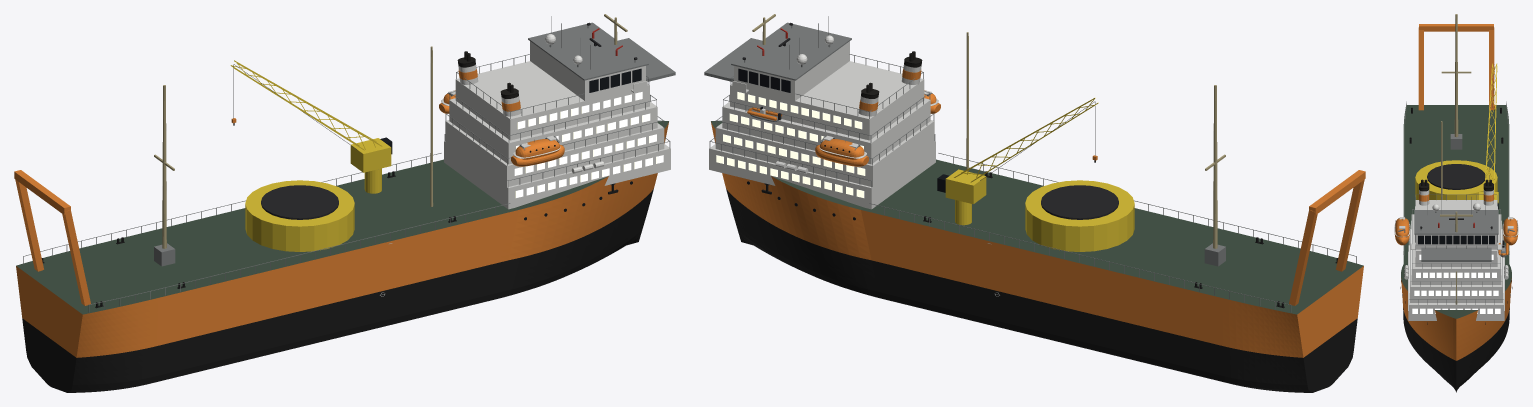
The model's file is offshore90.glb.
The picture shows the model from 3 angles, left to right: view 1: azimuth 30°, elevation 25°; view 2: azimuth 150°, elevation 25°; view 3: azimuth 270°, elevation 25°; orthographic projection. The views are drawn at different scales.
Parts seen in each view (by area): view 1: offshore90; view 2: offshore90; view 3: offshore90.
Boxes of the visible parts, bbox=[...] form: offshore90: bbox=[14, 14, 675, 392]; offshore90: bbox=[704, 14, 1365, 392]; offshore90: bbox=[1394, 14, 1518, 392].
Bounding box in the file's own units: 93 × 38.4 × 21.16.
